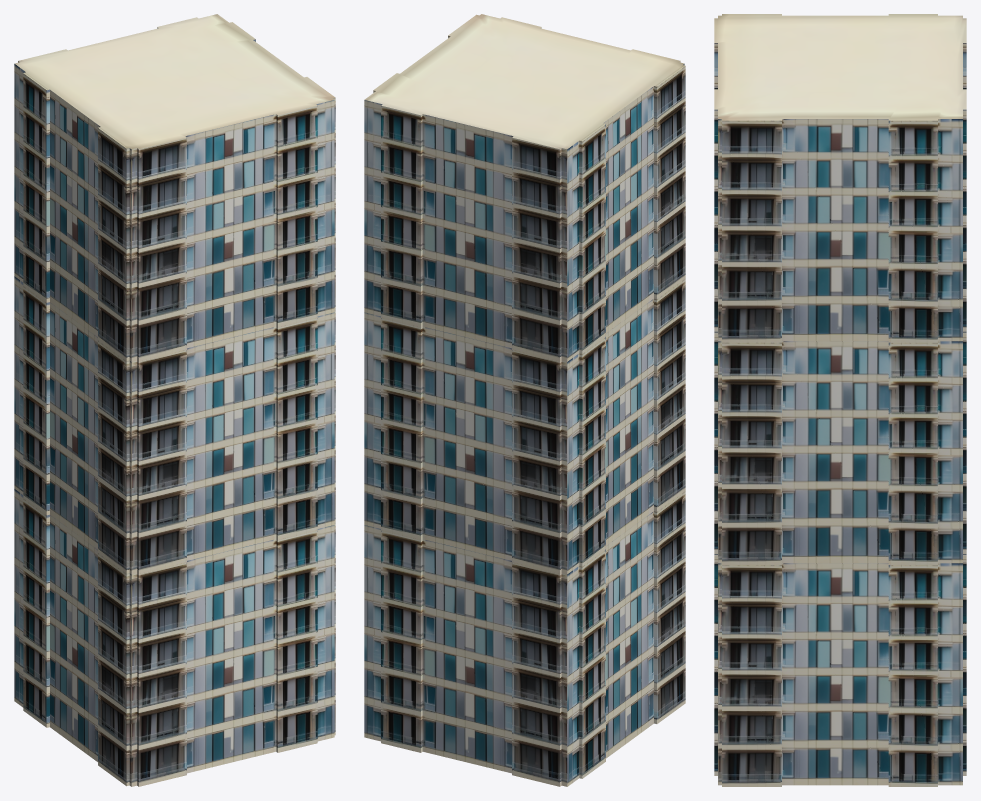
3 views of the same model, side by side, from view 1: azimuth 30°, elevation 25°; view 2: azimuth 150°, elevation 25°; view 3: azimuth 270°, elevation 25° (orthographic). The views are drawn at different scales.
Parts seen in each view (by area): view 1: B9; view 2: B9; view 3: B9.
Boxes of the visible parts, x1=… form: B9: x1=14, y1=14, x2=335, y2=786; B9: x1=364, y1=14, x2=685, y2=786; B9: x1=714, y1=14, x2=966, y2=786.
Bounding box in the file's own units: 511 × 1488 × 511.
Materials: 1 (1 with a texture image).
